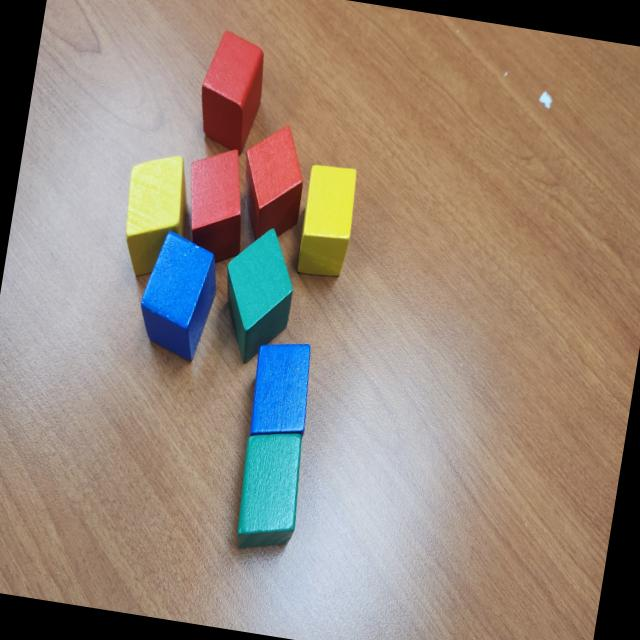blue: (133, 228, 225, 364), (245, 336, 316, 443)
green: (213, 220, 303, 368), (230, 424, 310, 556)
red: (174, 142, 256, 267), (232, 118, 313, 244), (194, 28, 272, 158)
yellow: (114, 148, 195, 282), (294, 163, 361, 281)
